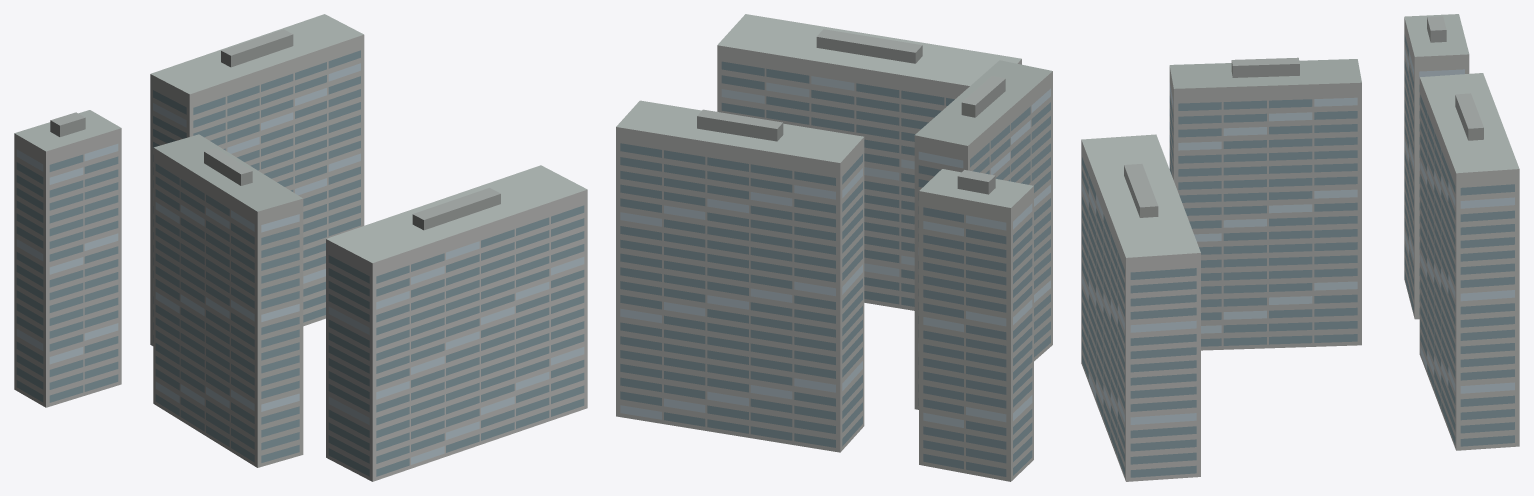
Rendered from apt-a15601202.glb.
The picture shows the model from 3 angles, left to right: view 1: azimuth 30°, elevation 25°; view 2: azimuth 150°, elevation 25°; view 3: azimuth 270°, elevation 25°; orthographic projection. The views are drawn at different scales.
Parts seen in each view (by area): view 1: apt-a15601202; view 2: apt-a15601202; view 3: apt-a15601202.
Part boxes in pixels (x1,y1,x2,y2): apt-a15601202: (14, 14, 587, 481); apt-a15601202: (616, 14, 1052, 481); apt-a15601202: (1081, 14, 1519, 481).
Bounding box in the file's own units: 88.25 × 58 × 79.56.
